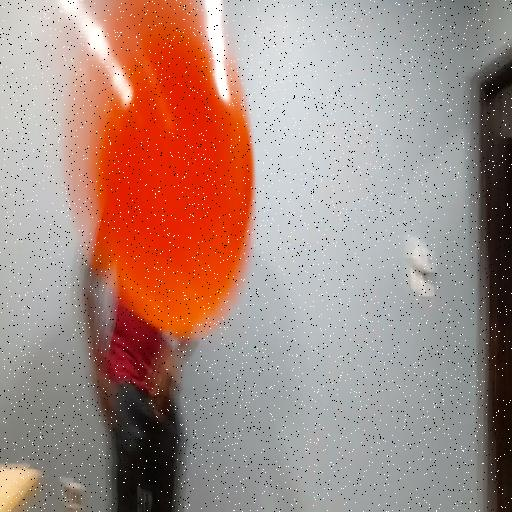plastic-ball: (66, 0, 252, 334)
